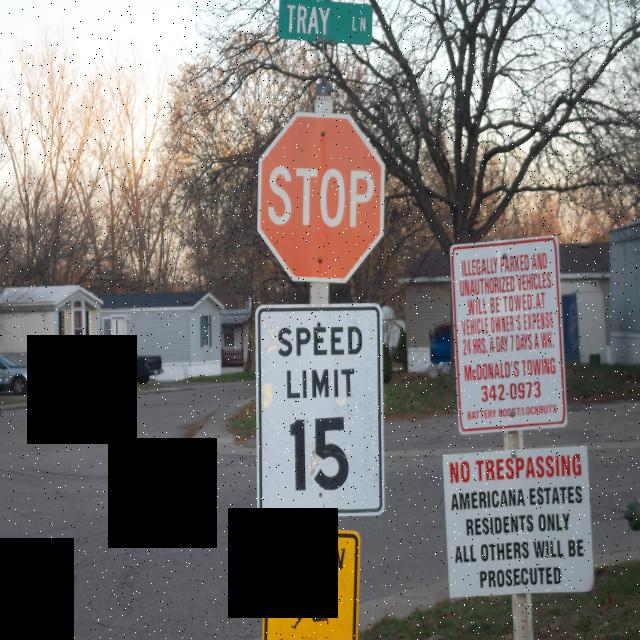regulatory: (254, 302, 386, 518), (446, 232, 573, 438)
stop: (257, 111, 385, 283)
warning: (260, 525, 361, 640)
